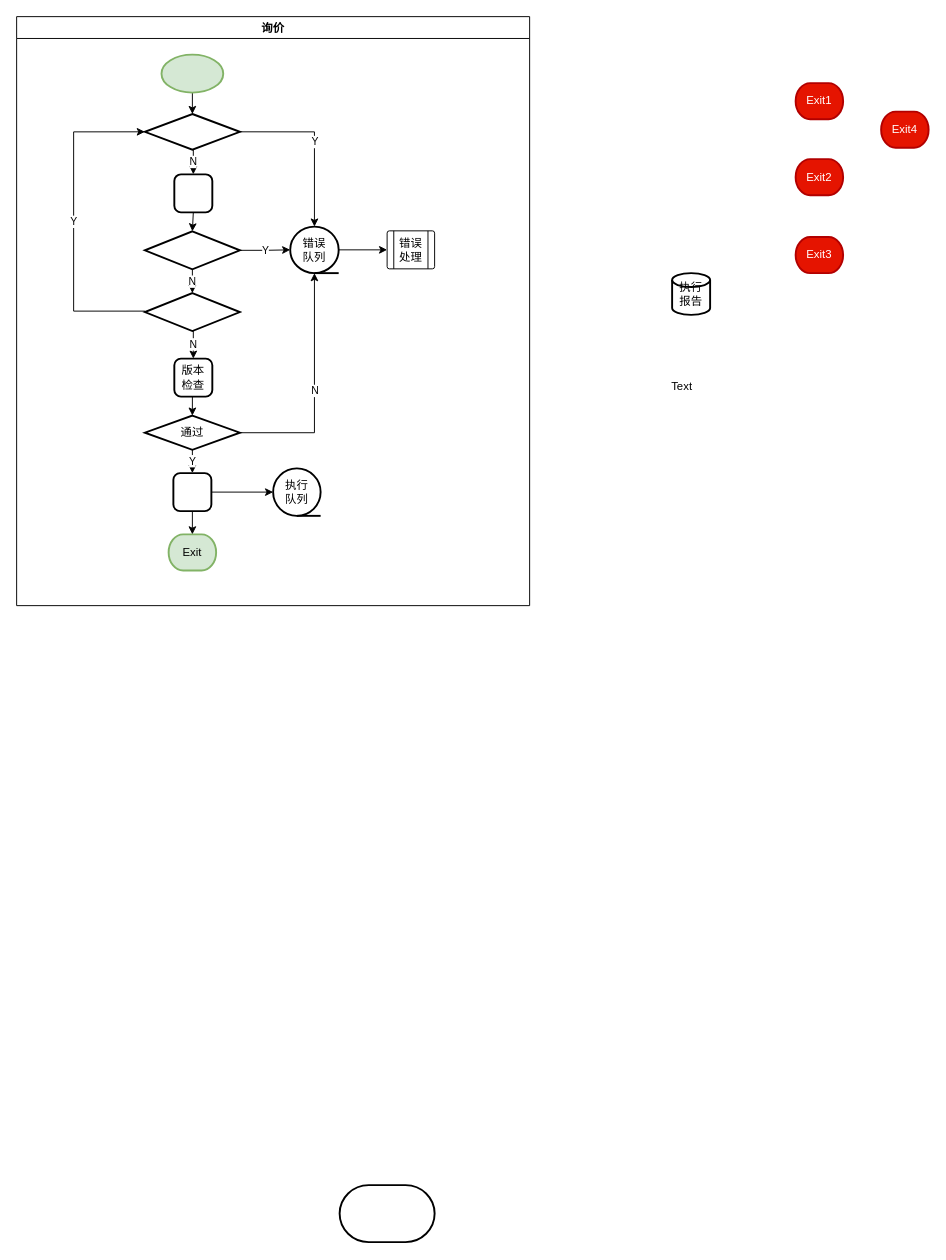
Image size: 946x1260. Some labels were removed from this diagram. Here are the shapes that lost their labels. From the top down, the centre of each, then its label:
At [192,73]: "开始".
At [191,131]: "超次数".
At [193,193]: "API 询价".
At [191,250]: "其它错".
At [191,312]: "超时错".
At [192,492]: "成功 事件".
